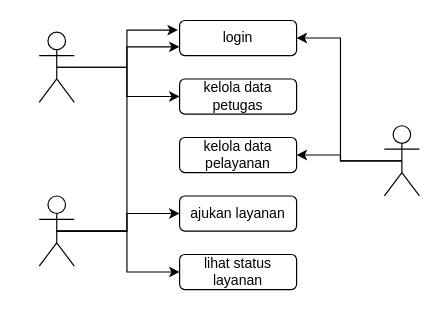
Some shapes in this 447 by 311 pixel diagram are drawn without their labels. Here are the shapes that lost their labels. From the top down, the centre of each, then its label:
[56,66]: admin
[401,160]: petugas
[56,230]: masyarakat
